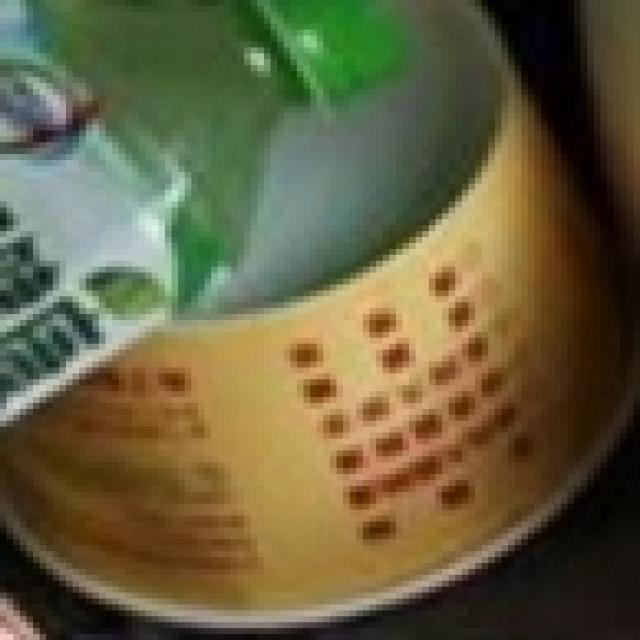plastic cup: (3, 0, 640, 634)
